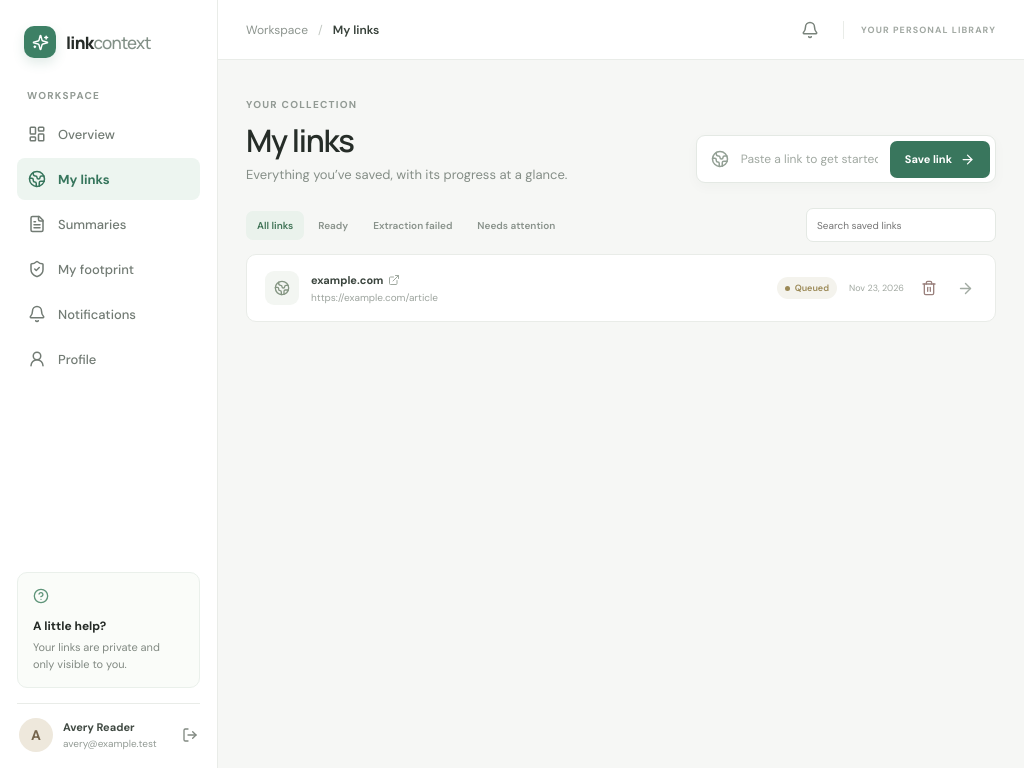
Test case: Link Context workspace › confirms and removes a link from the library
Click the button named "Delete example.com" at [929, 288], box left=916, top=275, right=942, bottom=301
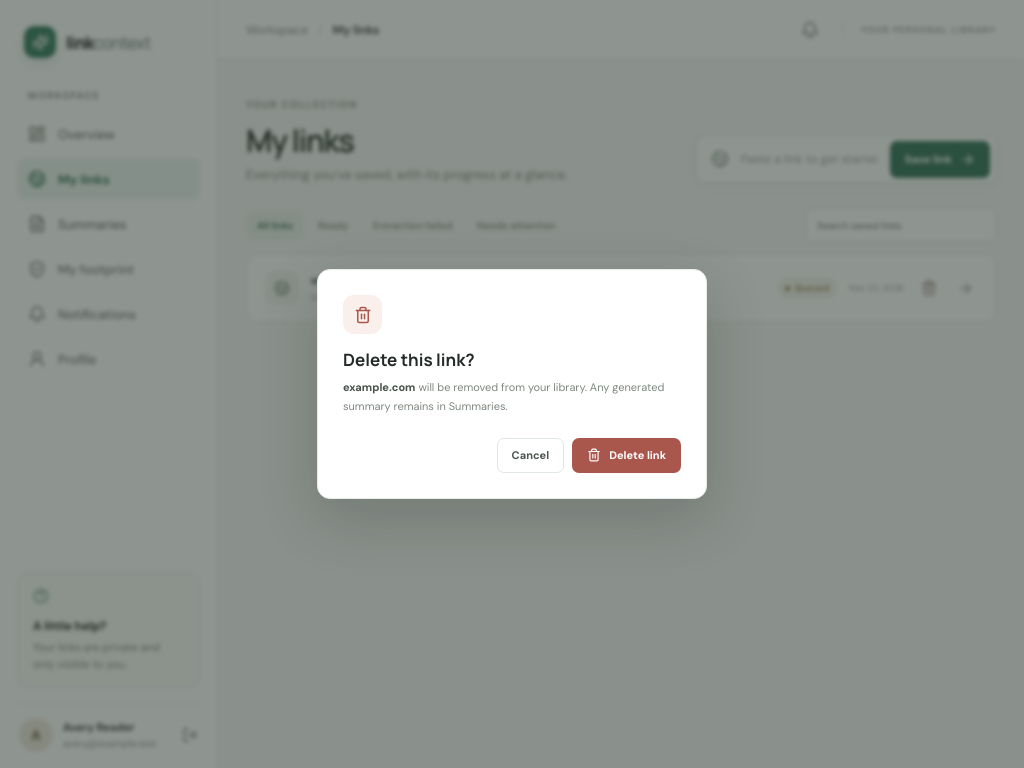
expect the dialog shows "Any generated summary remains in Summaries.": met, box left=343, top=380, right=664, bottom=413
Click the button "Delete link" at [627, 455], box left=572, top=438, right=681, bottom=473
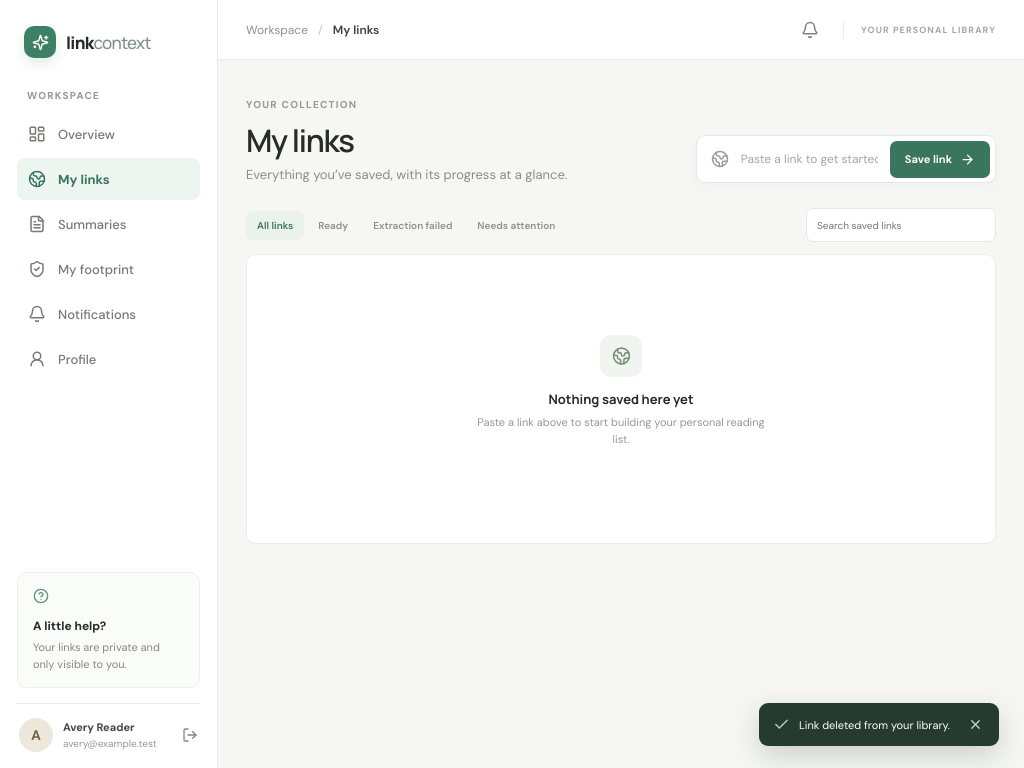
expect the heading "Nothing saved here yet" is shown: met, box left=548, top=390, right=694, bottom=408
expect the message reads "Link deleted from your library.": met, box left=799, top=718, right=950, bottom=732
